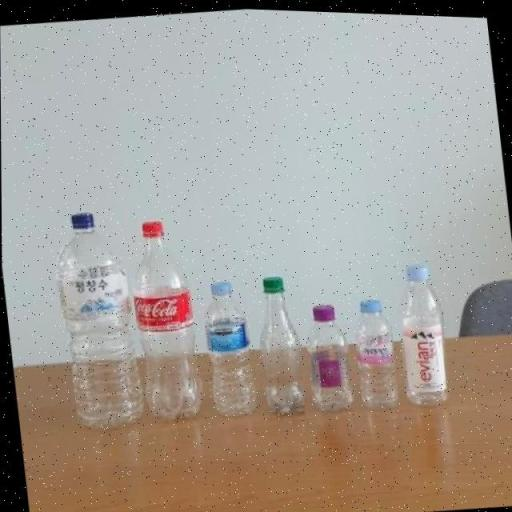plastic: (48, 208, 146, 430), (122, 216, 202, 422), (388, 258, 454, 406), (197, 275, 260, 418), (248, 272, 307, 416), (348, 294, 402, 406), (301, 300, 354, 412)
